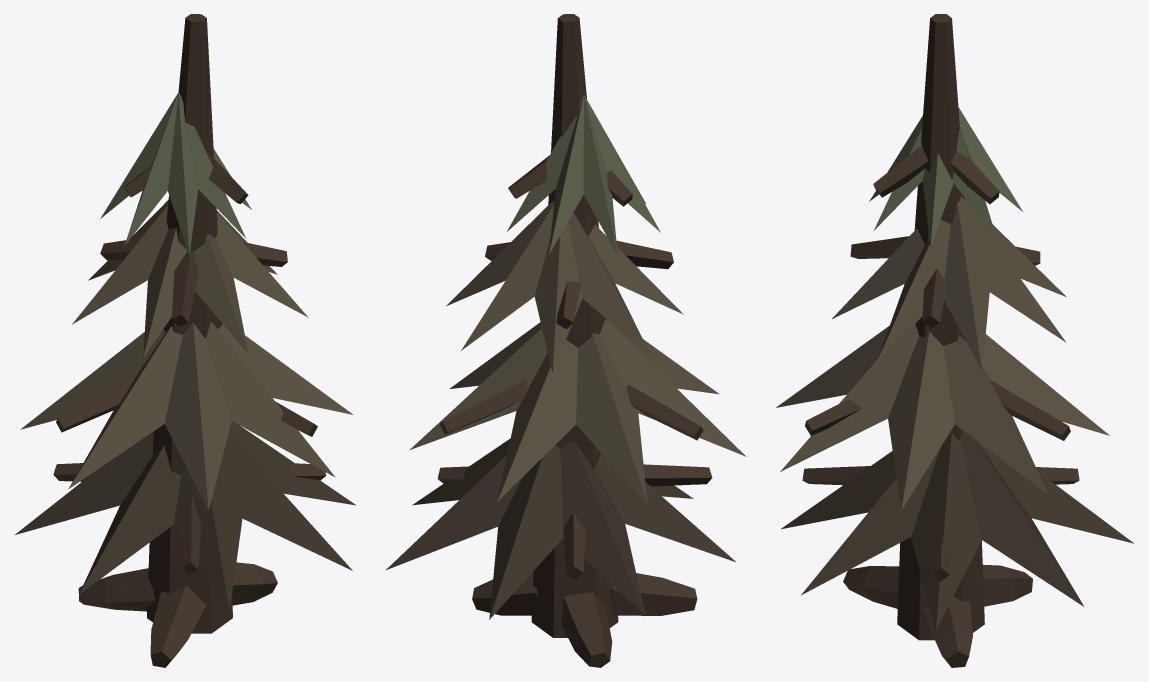
The model's file is tree_graypine_2.obj.
3 views of the same model, side by side, from view 1: azimuth 30°, elevation 25°; view 2: azimuth 150°, elevation 25°; view 3: azimuth 270°, elevation 25° (orthographic).
Parts seen in each view (by area): view 1: tree_graypine_2; view 2: tree_graypine_2; view 3: tree_graypine_2.
Boxes of the visible parts, x1=… form: tree_graypine_2: x1=15, y1=14, x2=355, y2=667; tree_graypine_2: x1=386, y1=14, x2=746, y2=667; tree_graypine_2: x1=776, y1=14, x2=1133, y2=667.
Size of the model in its own units: 0.4998 by 0.9203 by 0.492.
